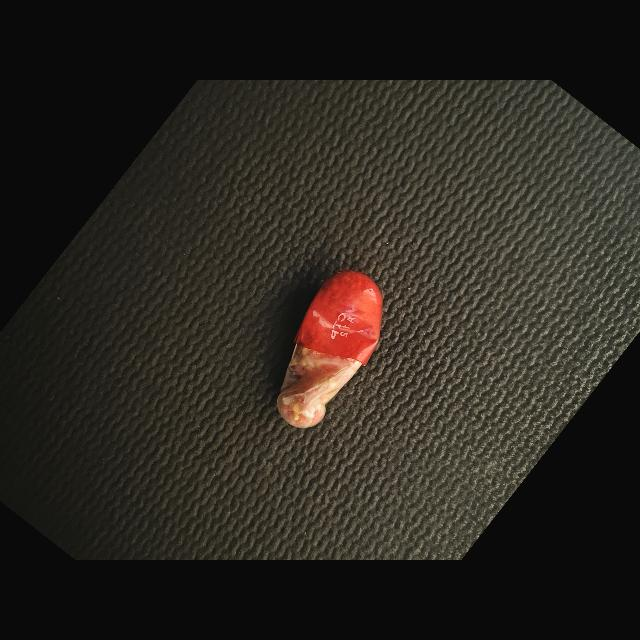Defective Capsule: (277, 271, 383, 428)
